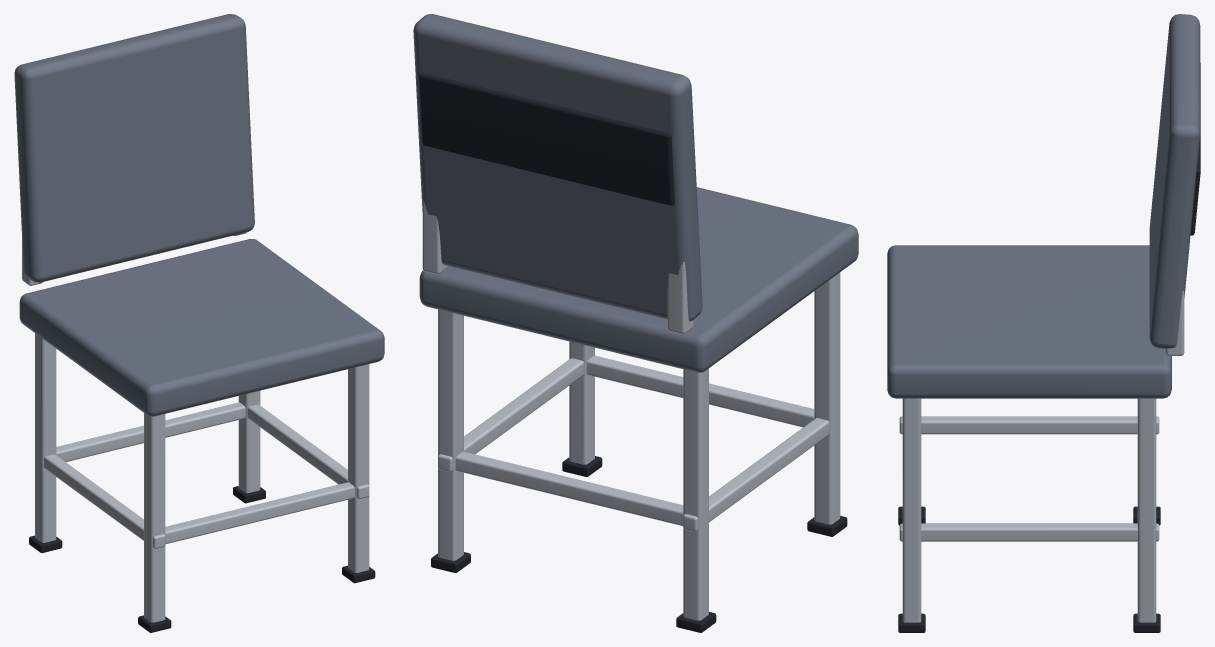
The model's file is ConferenceChair.fbx.
3 renders of one model, left to right at view 1: azimuth 30°, elevation 25°; view 2: azimuth 150°, elevation 25°; view 3: azimuth 270°, elevation 25°, orthographic. The views are drawn at different scales.
Visible parts, largest first — view 1: ConferenceChair; view 2: ConferenceChair; view 3: ConferenceChair.
Boxes of the visible parts, x1,y1,x2,y2 form: ConferenceChair: (14,14,384,632); ConferenceChair: (413,14,858,632); ConferenceChair: (887,14,1200,632).
Size of the model in its own units: 0.048 by 0.09 by 0.0507.
